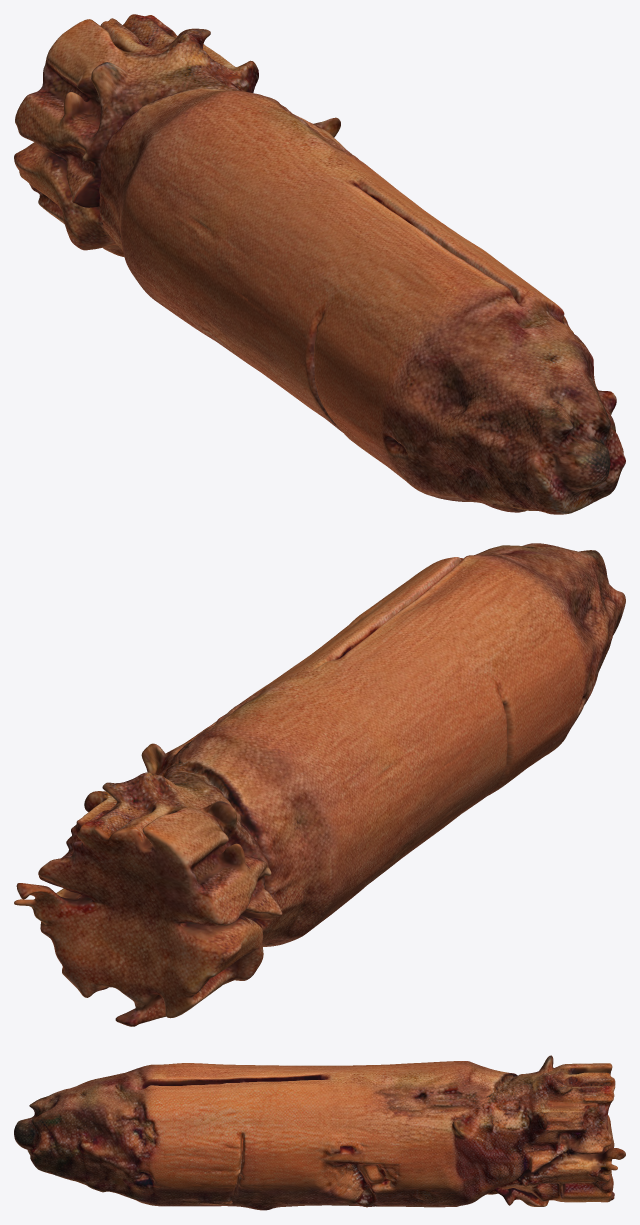
The model's file is retoucheur.glb.
3 views of the same model, one above another, from view 1: azimuth 30°, elevation 25°; view 2: azimuth 150°, elevation 25°; view 3: azimuth 270°, elevation 25° (orthographic). The views are drawn at different scales.
Parts seen in each view (by area): view 1: tripo_node_c56a8f1d-74ce-4994-a21f-4c3e48f40fd6; view 2: tripo_node_c56a8f1d-74ce-4994-a21f-4c3e48f40fd6; view 3: tripo_node_c56a8f1d-74ce-4994-a21f-4c3e48f40fd6.
Part boxes in pixels (<box>): tripo_node_c56a8f1d-74ce-4994-a21f-4c3e48f40fd6: <box>14,14,625,514</box>; tripo_node_c56a8f1d-74ce-4994-a21f-4c3e48f40fd6: <box>14,543,625,1026</box>; tripo_node_c56a8f1d-74ce-4994-a21f-4c3e48f40fd6: <box>14,1055,625,1210</box>.
Size of the model in its own units: 0.2484 by 0.2449 by 0.9999.
Materials: 1 (1 with a texture image).
